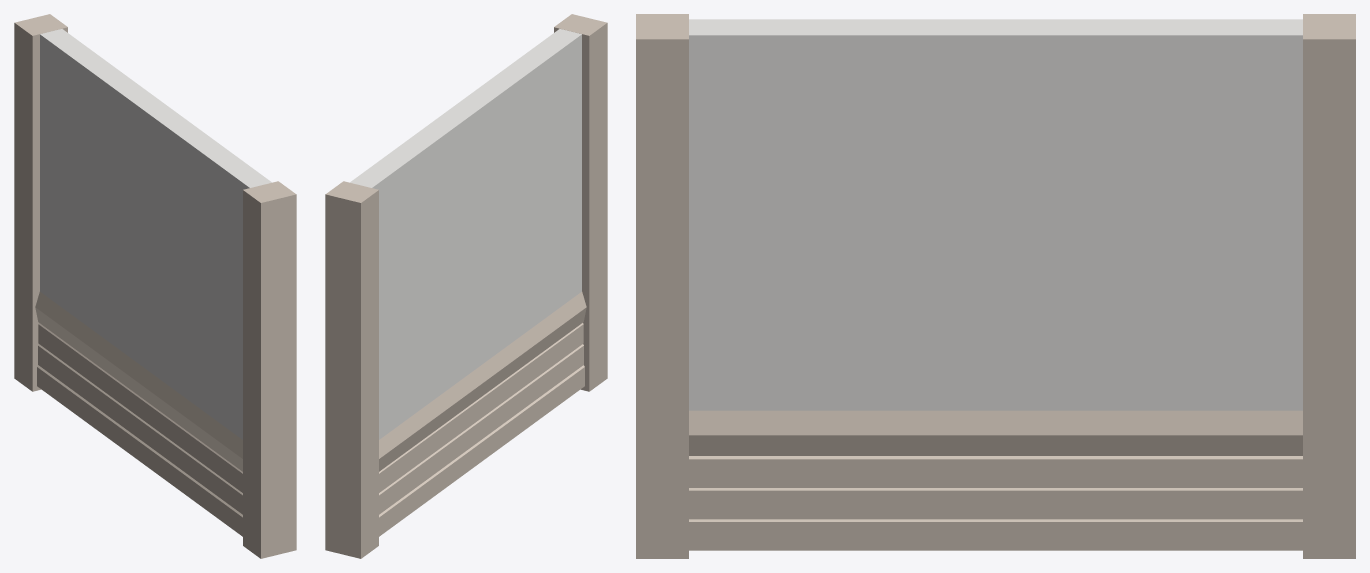
Rendered from Wall03_house01.fbx.
3 views of the same model, side by side, from view 1: azimuth 30°, elevation 25°; view 2: azimuth 150°, elevation 25°; view 3: azimuth 270°, elevation 25° (orthographic). The views are drawn at different scales.
Visible parts, largest first — view 1: wall03_house01; view 2: wall03_house01; view 3: wall03_house01.
Boxes of the visible parts, x1=… form: wall03_house01: x1=14, y1=14, x2=296, y2=558; wall03_house01: x1=325, y1=14, x2=607, y2=558; wall03_house01: x1=636, y1=14, x2=1355, y2=558.
Bounding box in the file's own units: 41.42 × 396 × 496.
